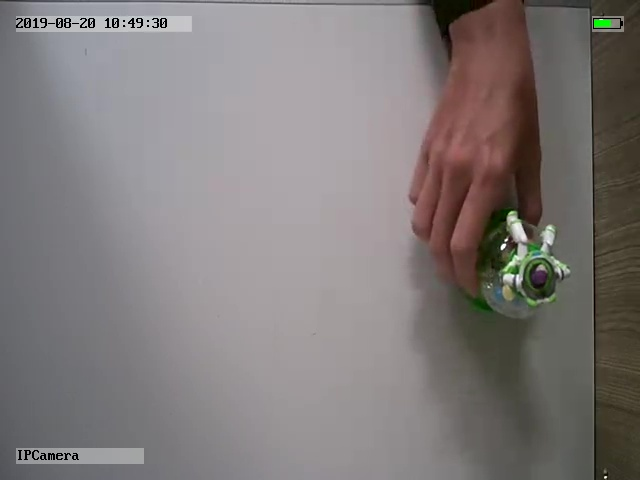buzz: (465, 208, 572, 323)
